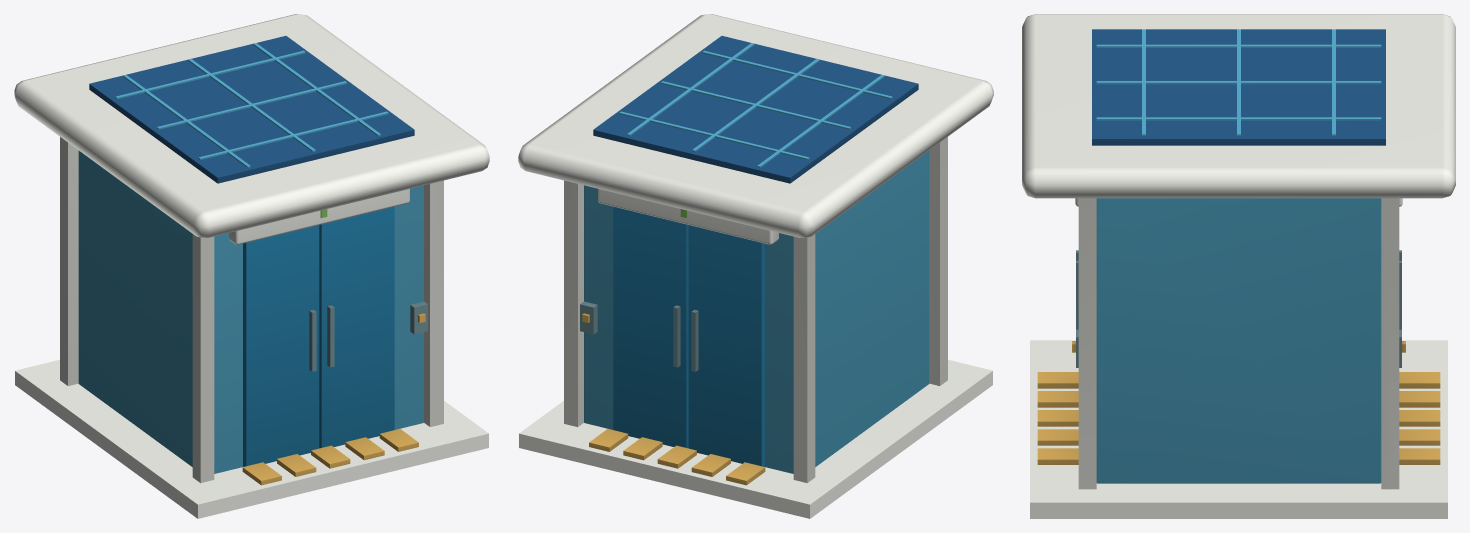
File: station-lift-landing.glb
The picture shows the model from 3 angles, left to right: view 1: azimuth 30°, elevation 25°; view 2: azimuth 150°, elevation 25°; view 3: azimuth 270°, elevation 25°; orthographic projection. The views are drawn at different scales.
Visible parts, largest first — view 1: landing slab, enclosure, sliding glass door, solar canopy inset, illuminated button, door handle; view 2: landing slab, enclosure, sliding glass door, solar canopy inset, illuminated button, door handle; view 3: enclosure, landing slab, solar canopy inset, illuminated button, door handle.
Part boxes in pixels (bbox=[...]): landing slab: bbox=[14, 14, 489, 518]; enclosure: bbox=[78, 43, 423, 473]; sliding glass door: bbox=[243, 206, 394, 466]; solar canopy inset: bbox=[89, 36, 414, 183]; illuminated button: bbox=[242, 313, 425, 485]; door handle: bbox=[309, 301, 427, 371]; landing slab: bbox=[518, 14, 993, 518]; enclosure: bbox=[584, 43, 929, 473]; sliding glass door: bbox=[613, 206, 764, 466]; solar canopy inset: bbox=[593, 36, 918, 183]; illuminated button: bbox=[582, 313, 765, 485]; door handle: bbox=[580, 301, 698, 371]; enclosure: bbox=[1096, 29, 1381, 483]; landing slab: bbox=[1022, 14, 1455, 518]; solar canopy inset: bbox=[1092, 29, 1385, 145]; illuminated button: bbox=[1037, 341, 1440, 464]; door handle: bbox=[1076, 250, 1401, 367].
Size of the model in its own units: 1.72 by 1.74 by 1.92.
